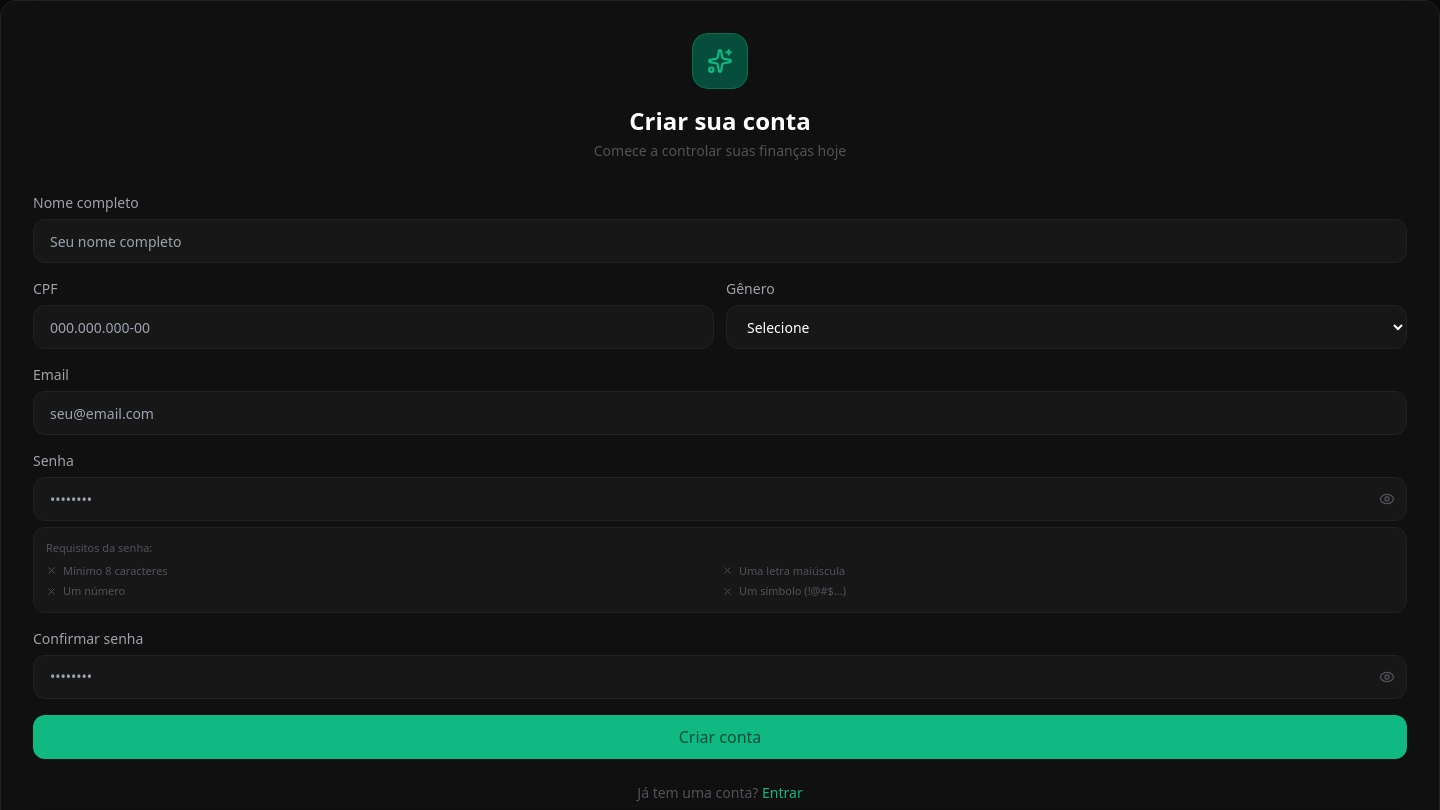
Test: RegisterPage › deve aplicar máscara no CPF ao digitar
In the field labelled "CPF": point(374, 327) [33,305,714,349], type "52998224725"
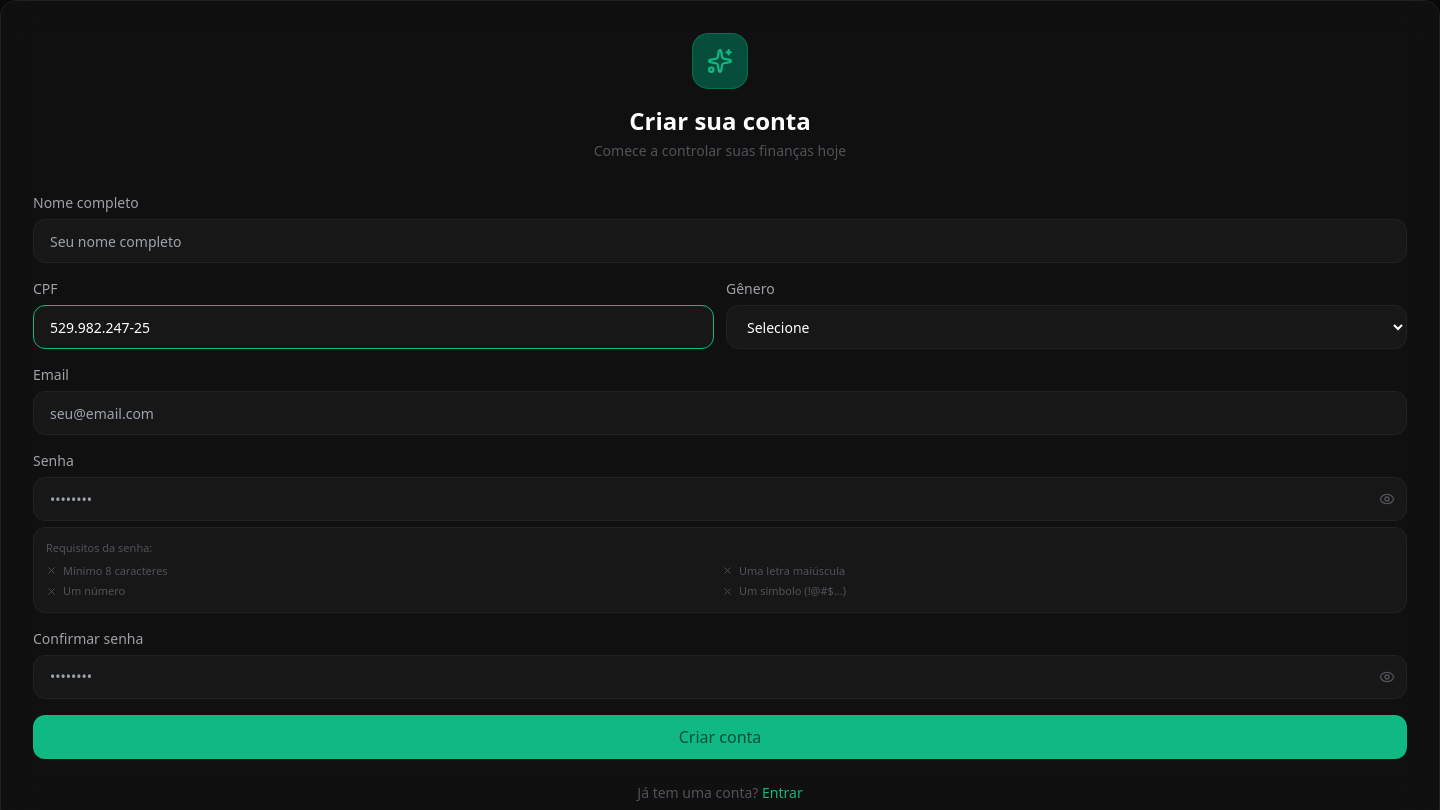
Now the field labelled "CPF" holds "529.982.247-25", box [33,305,714,349]
